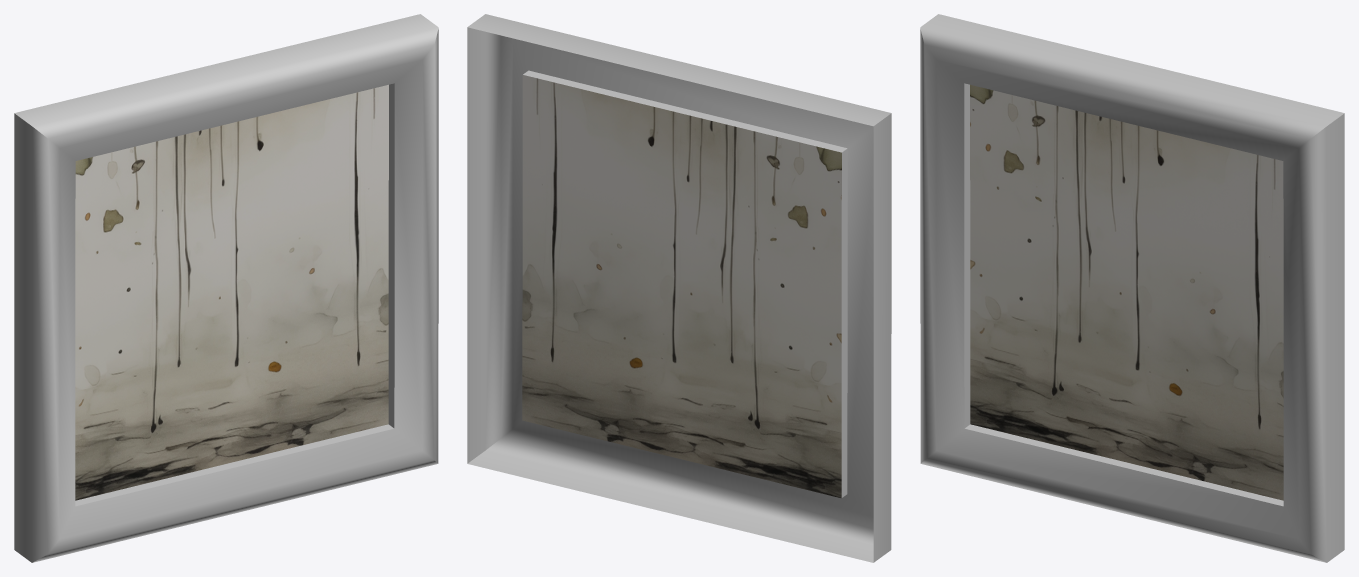
Rendered from Picture.fbx.
The picture shows the model from 3 angles, left to right: view 1: azimuth 30°, elevation 25°; view 2: azimuth 150°, elevation 25°; view 3: azimuth 330°, elevation 25°; orthographic projection.
Visible parts, largest first — view 1: Picture; view 2: Picture; view 3: Picture.
Part boxes in pixels (x1,y1,x2,y2): Picture: [14, 14, 438, 562]; Picture: [467, 14, 891, 562]; Picture: [920, 14, 1344, 562].
Bounding box in the file's own units: 17.73 × 18.21 × 1.82.
